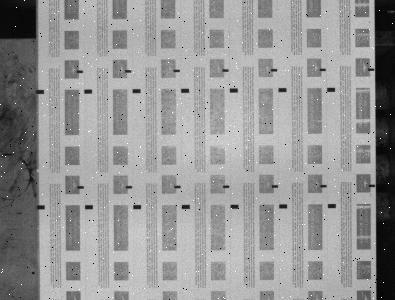backgroundclutter: (31, 271, 35, 274)
qblock: (36, 89, 44, 94), (84, 89, 92, 94), (327, 87, 335, 92), (181, 88, 189, 93), (133, 204, 141, 209), (182, 204, 190, 209), (132, 89, 141, 93), (37, 205, 45, 209), (279, 88, 287, 92), (230, 88, 238, 92), (85, 205, 93, 209), (328, 204, 336, 208), (279, 204, 287, 208), (231, 204, 239, 208)
smallqblock: (125, 69, 131, 73), (271, 68, 277, 72), (126, 185, 132, 189), (222, 69, 229, 72), (368, 68, 375, 71), (320, 184, 327, 187), (174, 185, 181, 188), (223, 185, 230, 188), (77, 70, 83, 73), (174, 69, 180, 72), (320, 68, 326, 71), (78, 186, 84, 189), (272, 185, 278, 188), (369, 184, 375, 187)
